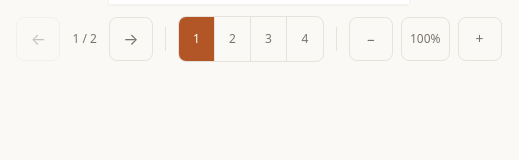
Test: pages forward and back, and stops at both ends
expect the text "1 / 2" is shown: met, box [72,30,97,47]
expect the button named "Previous page" is disabled: met, box [16,17,60,61]
Click the button named "Next page" at (131, 39), box [109,17,153,61]
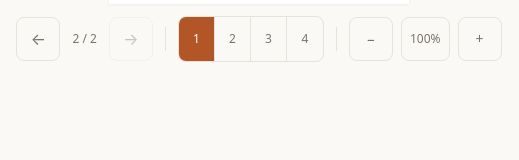
expect the text "2 / 2" is shown: met, box [72,30,97,47]
expect the button named "Next page" is disabled: met, box [109,17,153,61]
Click the button named "Previous page" at (38, 39), box [16,17,60,61]
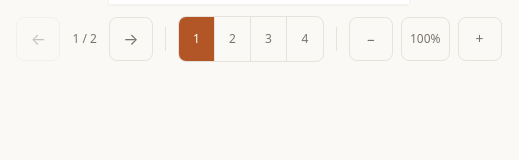
expect the text "1 / 2" is shown: met, box [72,30,97,47]
